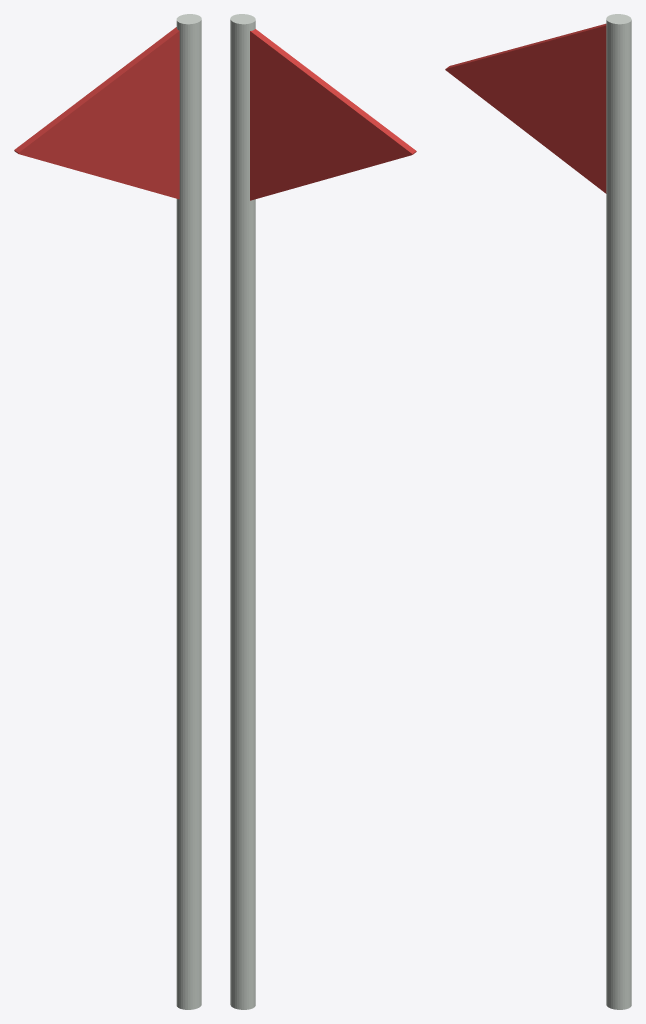
Rendered from flag.fbx.
The picture shows the model from 3 angles, left to right: view 1: azimuth 30°, elevation 25°; view 2: azimuth 150°, elevation 25°; view 3: azimuth 330°, elevation 25°; orthographic projection.
Parts seen in each view (by area): view 1: Cylinder, Cube; view 2: Cylinder, Cube; view 3: Cylinder, Cube.
Boxes of the visible parts, x1,y1,x2,y2 form: Cylinder: [176, 14, 201, 1009]; Cube: [14, 27, 179, 199]; Cylinder: [230, 14, 255, 1009]; Cube: [250, 29, 416, 200]; Cylinder: [606, 14, 631, 1009]; Cube: [445, 23, 606, 193].
Bounding box in the file's own units: 214 × 1101 × 24.
